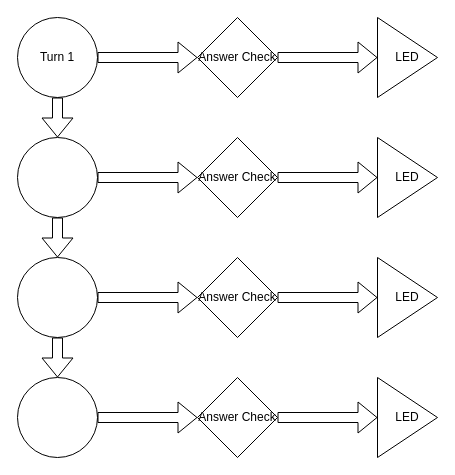
Image size: 455x475. Some labels were removed from this diagram. Here are the shapes that lost their labels. From the top down, the centre of each, then its label:
At point (57, 177): "Turn 2".
At point (57, 297): "Turn 3".
At point (57, 417): "Turn 4".
